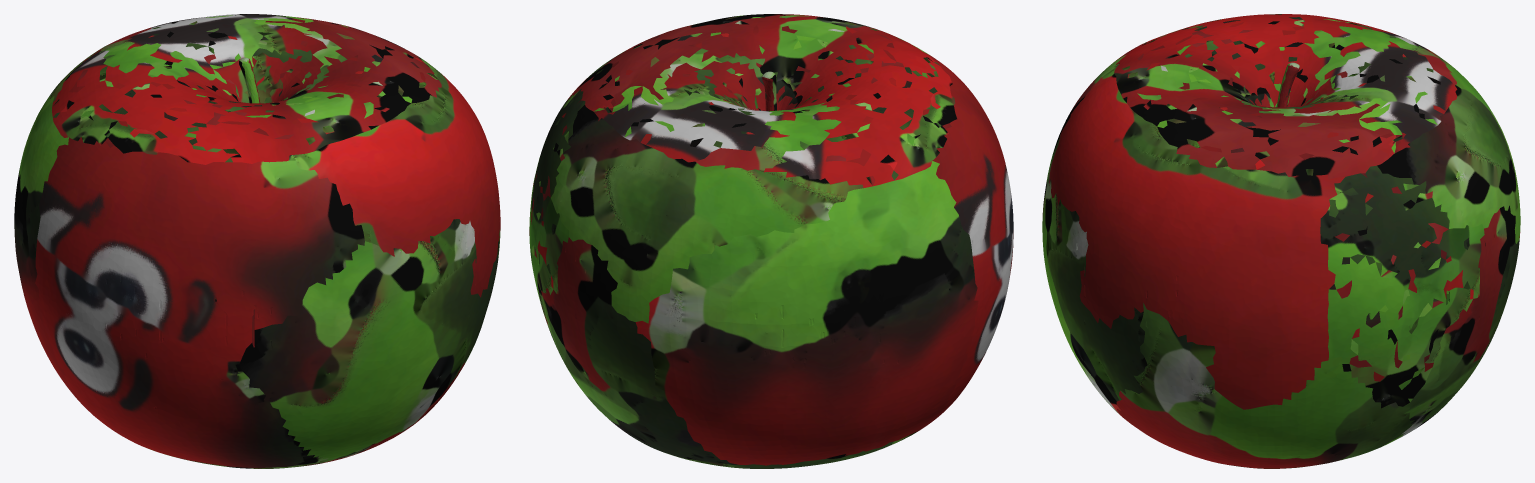
Rendered from sample.obj.
The picture shows the model from 3 angles, left to right: view 1: azimuth 30°, elevation 25°; view 2: azimuth 150°, elevation 25°; view 3: azimuth 270°, elevation 25°; orthographic projection. The views are drawn at different scales.
Size of the model in its own units: 0.1121 by 0.09 by 0.1113.
